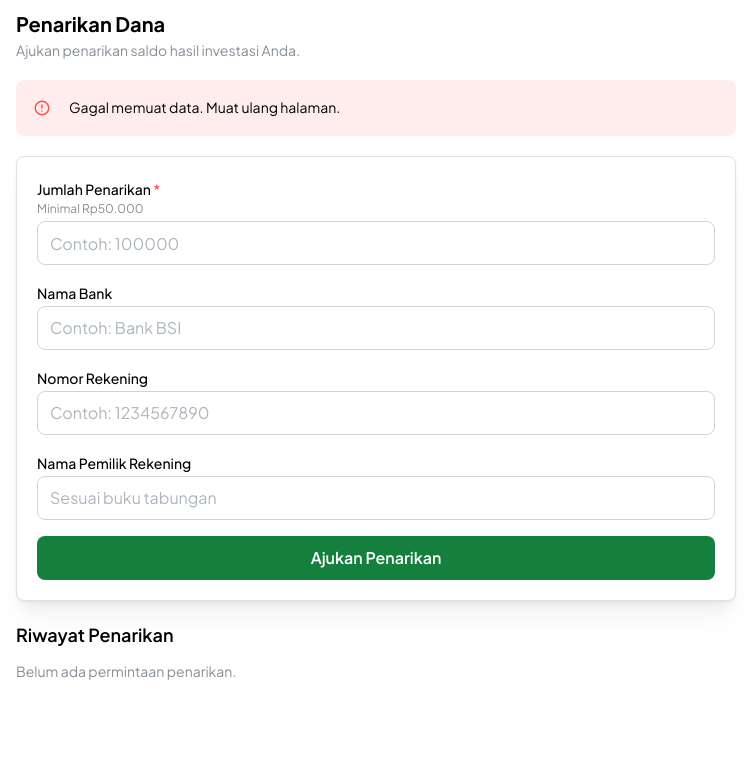
Test: Portfolio, Withdrawal, Profile › withdrawal rejects amount exceeding available balance
Type "150000" into the number field labelled "Jumlah Penarikan *" at [376, 243], box [37,221,715,265]
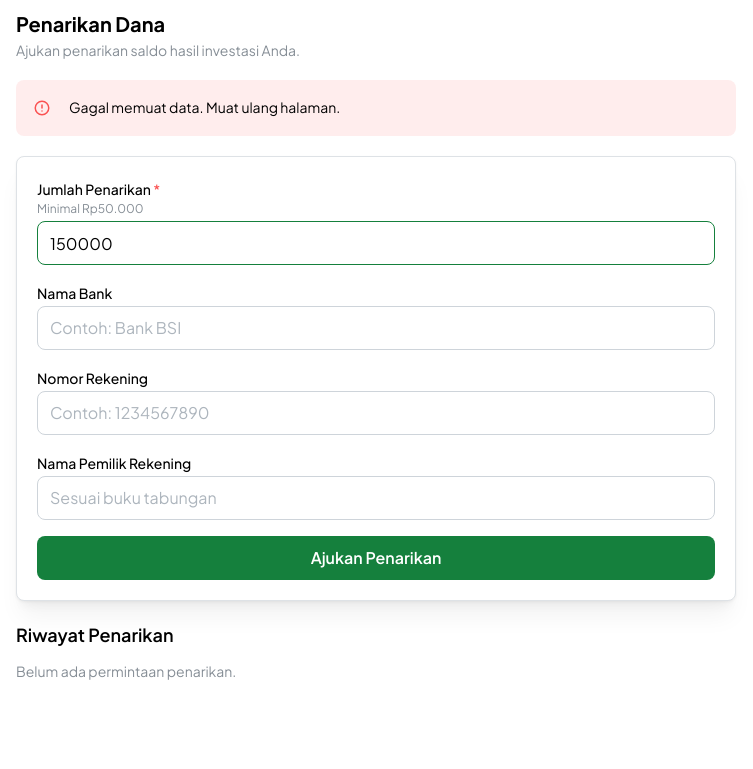
Click the button "Ajukan Penarikan" at [376, 558], box [37,536,715,580]
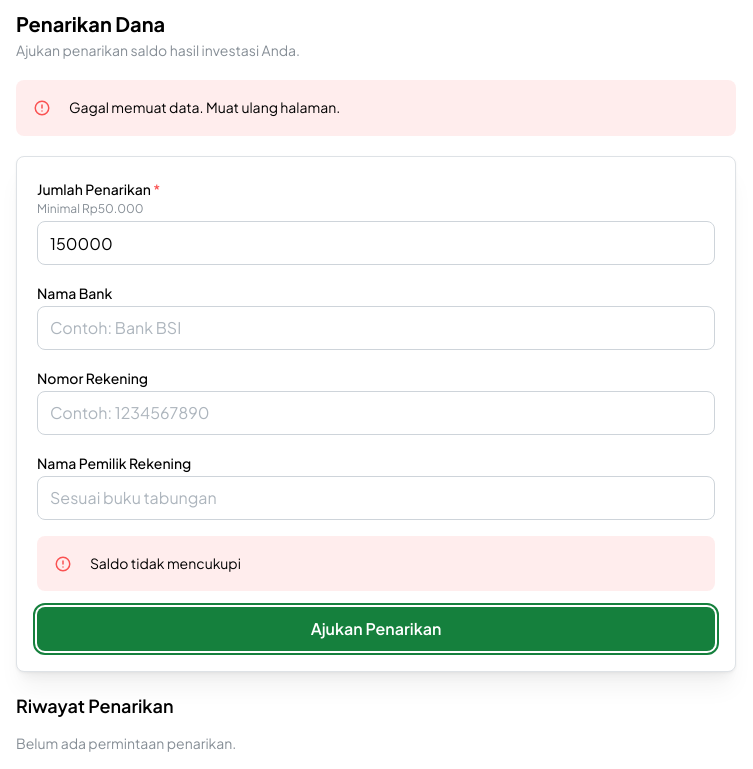
Expected: the text "Saldo tidak mencukupi" is shown, [90,554,241,572]
